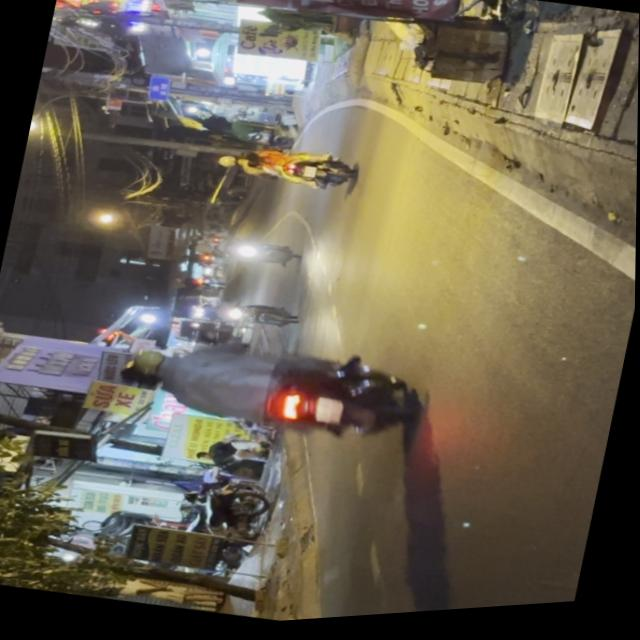helmet: (128, 347, 182, 389)
licenseplate: (104, 312, 433, 475)
nohelmet: (312, 401, 345, 431)
